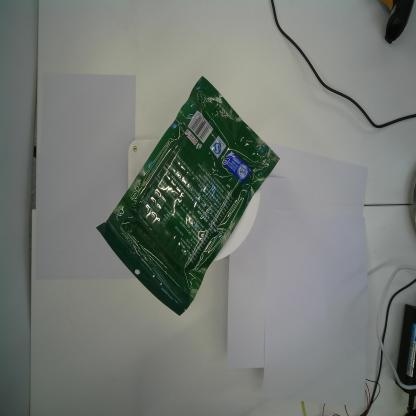Dried Food: (95, 76, 280, 317)
